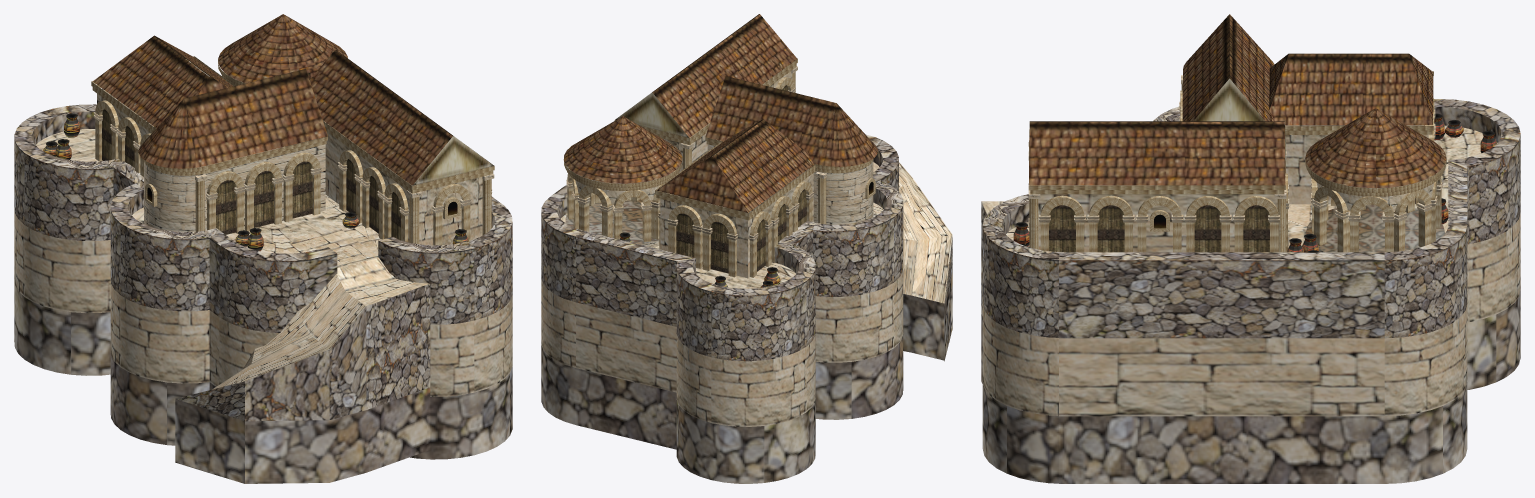
File: acropolis.dae
3 renders of one model, left to right at view 1: azimuth 30°, elevation 25°; view 2: azimuth 150°, elevation 25°; view 3: azimuth 270°, elevation 25°, orthographic. The views are drawn at different scales.
Visible parts, largest first — view 1: acropolis; view 2: acropolis; view 3: acropolis.
Part boxes in pixels (bbox=[...]): acropolis: bbox=[14, 14, 512, 483]; acropolis: bbox=[541, 14, 952, 483]; acropolis: bbox=[981, 14, 1520, 483].
Bounding box in the file's own units: 23.55 × 32.97 × 23.06.
